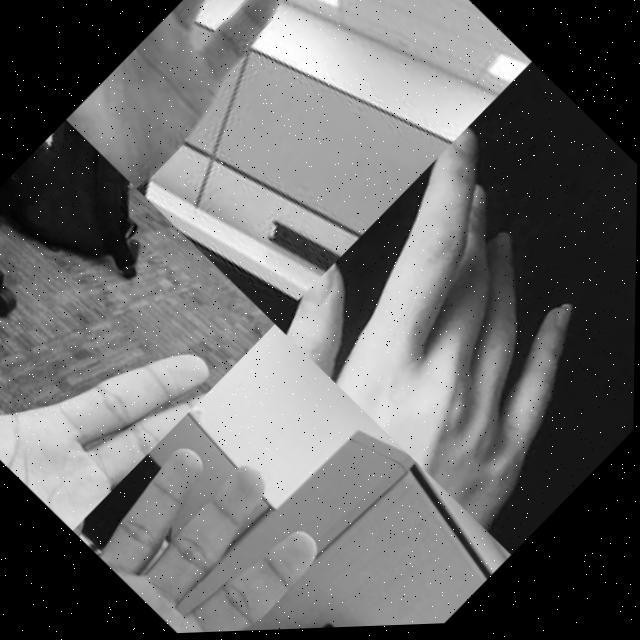no-gloves: (272, 122, 638, 565), (0, 159, 231, 532), (72, 400, 434, 638), (64, 0, 395, 242)
